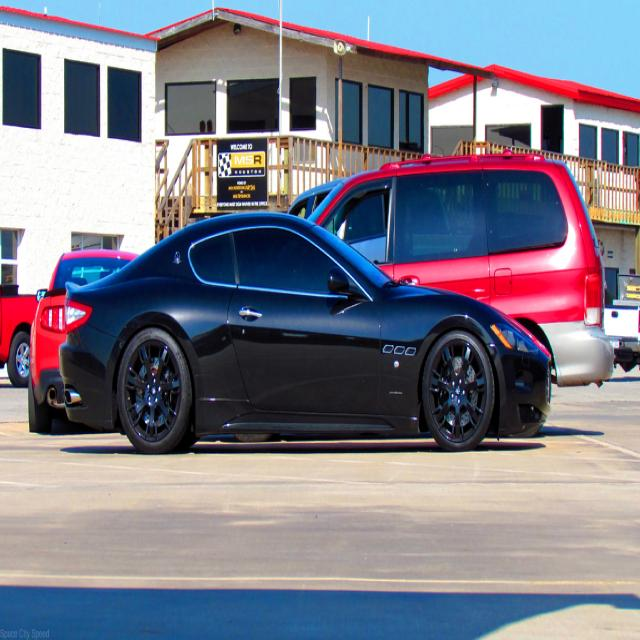Car: (0, 149, 640, 455)
